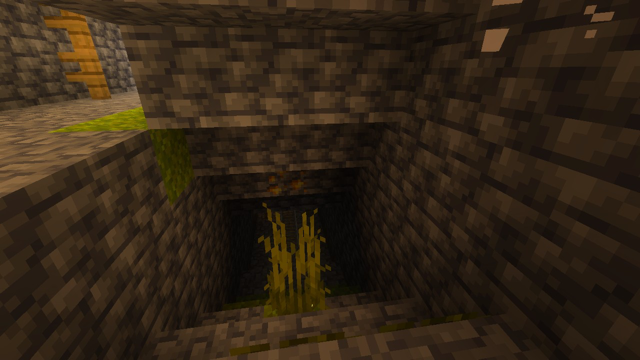gold: (265, 171, 310, 195)
